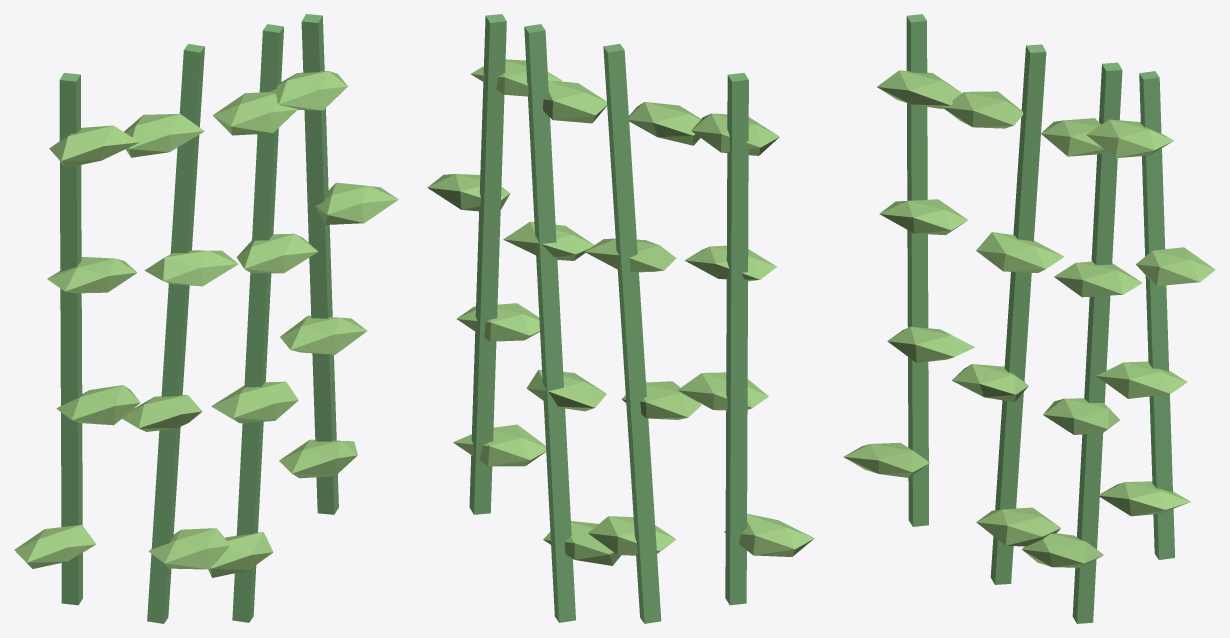
Rendered from vines.glb.
3 renders of one model, left to right at view 1: azimuth 30°, elevation 25°; view 2: azimuth 150°, elevation 25°; view 3: azimuth 330°, elevation 25°, orthographic. The views are drawn at different scales.
Bounding box in the file's own units: 0.0523 × 0.0785 × 0.00716.
